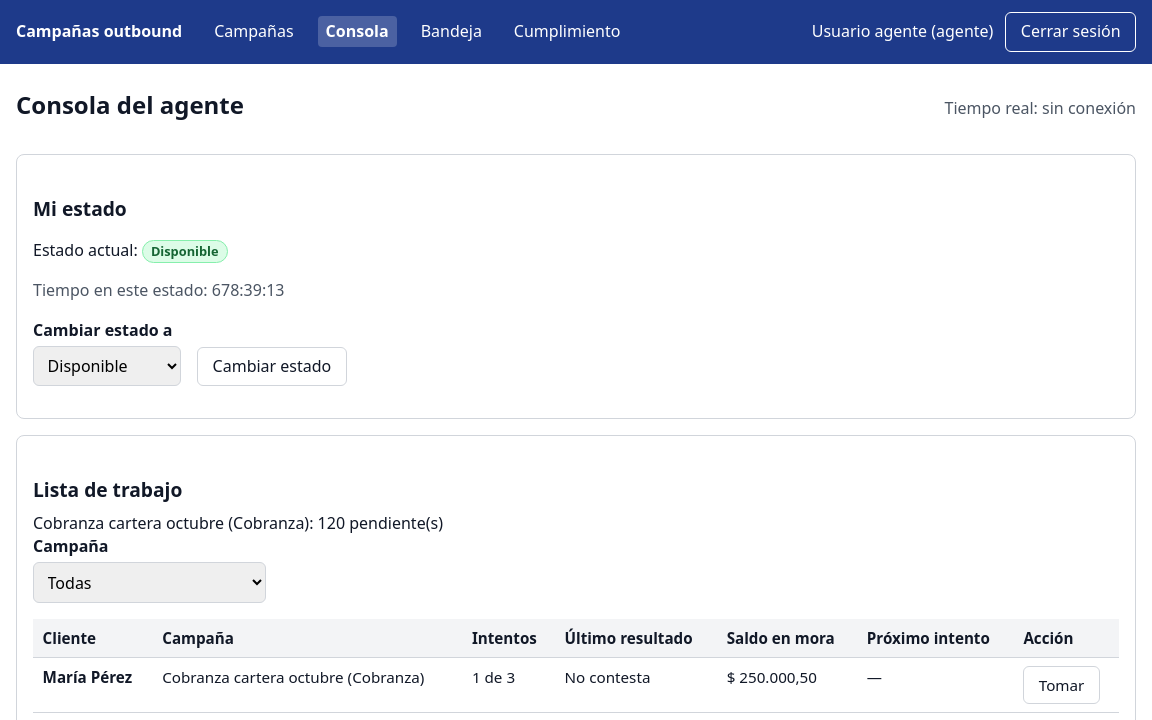
Scenario: Consola del agente: flujo completo con SoftphoneFalso › muestra el bloqueo FUERA_DE_FRANJA y no pide tipificación
The image size is (1152, 720).
Click the button named "Tomar registro de María Pérez" at (1062, 685), box [1023,666,1100,704]
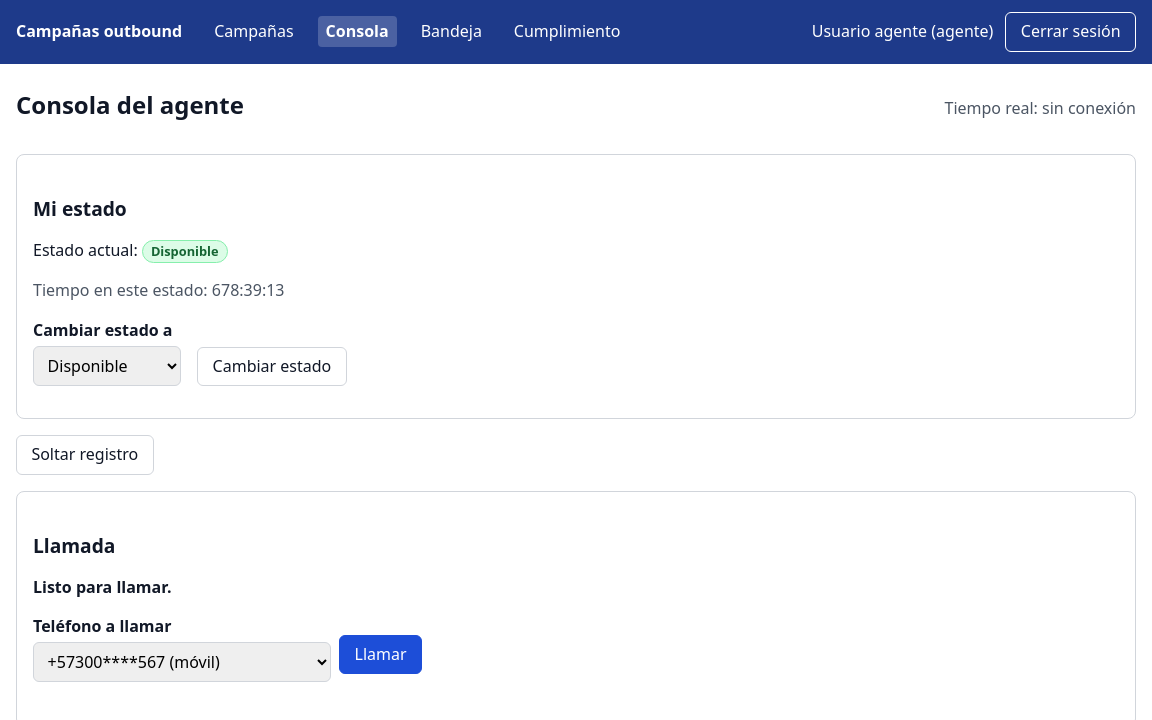
Expected: the button "Llamar" is enabled
Click the button "Llamar" at (381, 654), box [339,635,422,674]
(page scrolled)
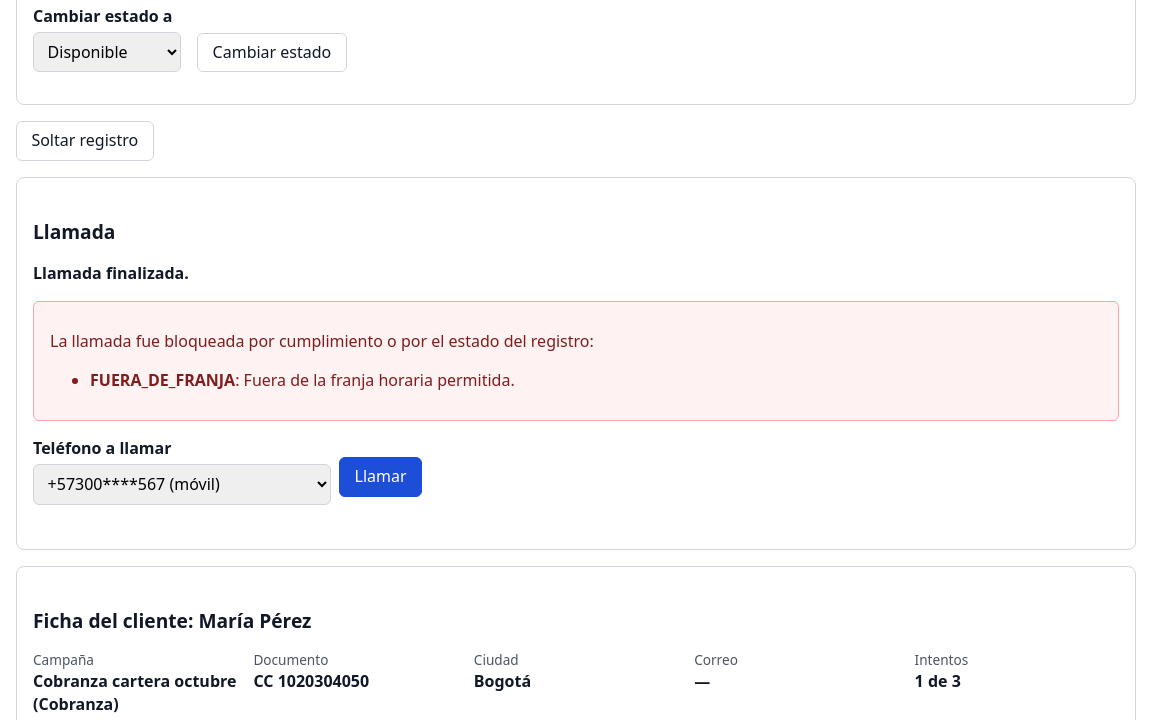
Expected: the 2nd message shows "FUERA_DE_FRANJA", [90,369,235,391]
Expected: the 2nd message shows "Fuera de la franja horaria permitida.", [244,369,515,391]
